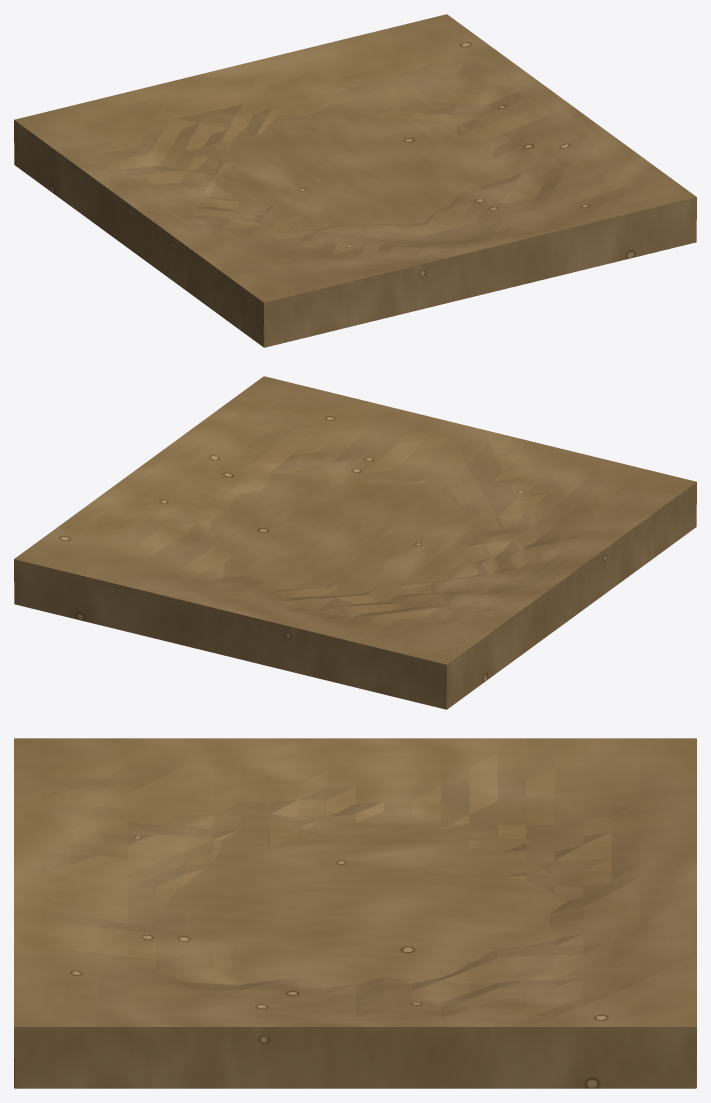
File: floor_sand_a.glb
3 views of the same model, one above another, from view 1: azimuth 30°, elevation 25°; view 2: azimuth 150°, elevation 25°; view 3: azimuth 270°, elevation 25° (orthographic). The views are drawn at different scales.
Visible parts, largest first — view 1: floor_sand_a; view 2: floor_sand_a; view 3: floor_sand_a.
Boxes of the visible parts, x1=… form: floor_sand_a: x1=14, y1=14, x2=696, y2=347; floor_sand_a: x1=14, y1=376, x2=696, y2=709; floor_sand_a: x1=14, y1=738, x2=696, y2=1088.
Bounding box in the file's own units: 1 × 0.1 × 1.
1 material, 1 textured.
